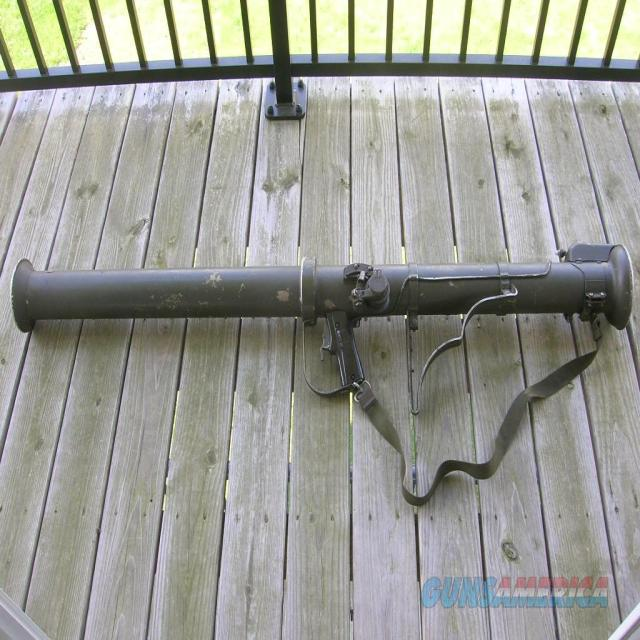bazooka: (10, 236, 640, 504)
